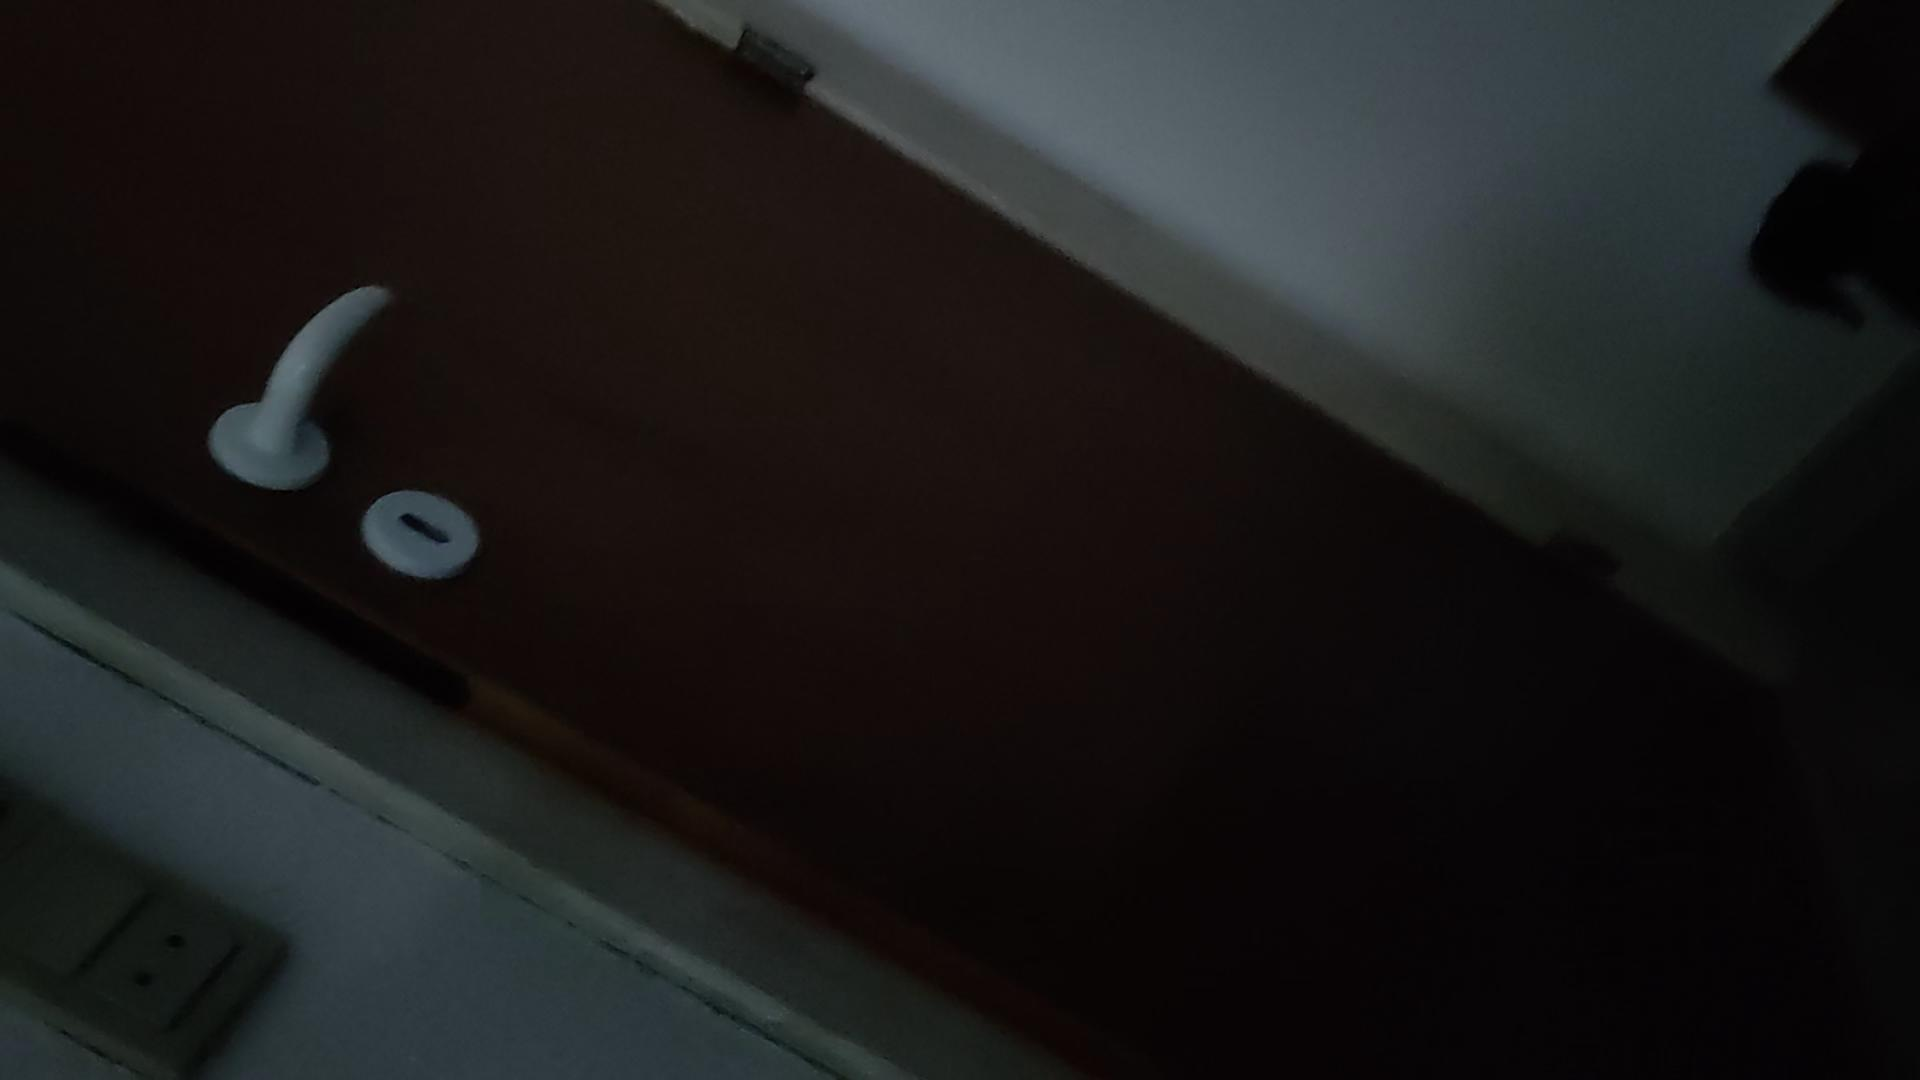Dog: (1738, 115, 1919, 371)
